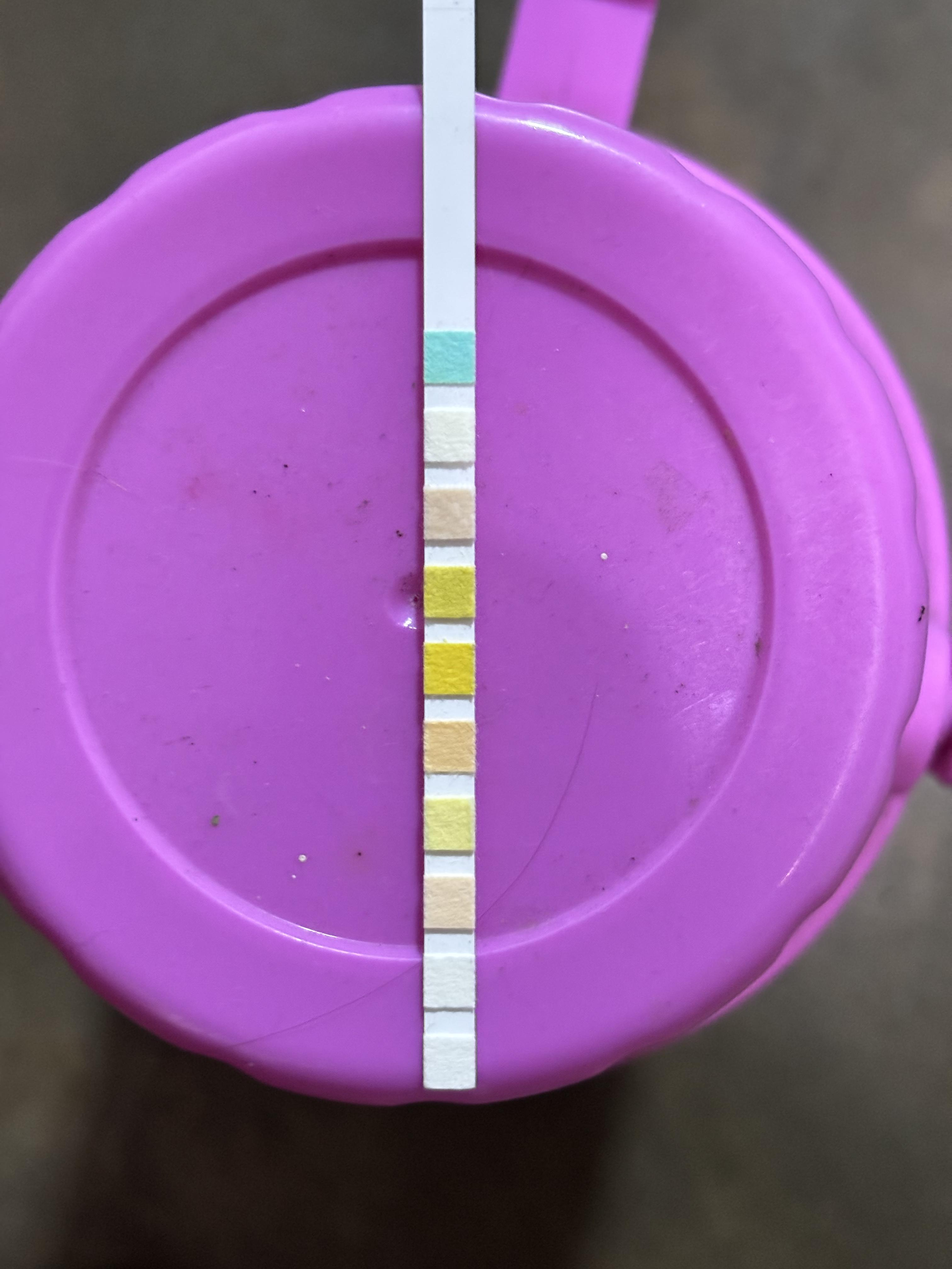Bilirubin: (425, 413, 471, 461)
Blood: (425, 646, 473, 693)
Glucose: (425, 334, 474, 383)
Ketone: (425, 491, 474, 538)
Leukocytes: (425, 1037, 475, 1088)
Nitrite: (425, 958, 472, 1007)
Protein: (427, 801, 471, 848)
SpGravity: (425, 569, 473, 618)
Urobilinogen: (425, 879, 473, 927)
pH: (426, 725, 473, 771)
strip: (423, 1, 475, 1088)
